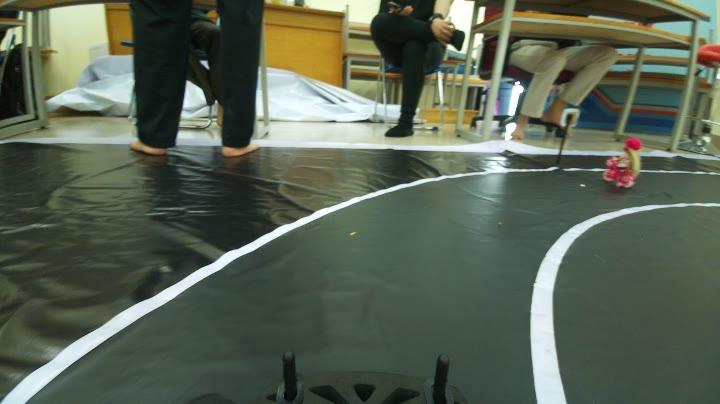pedestrian: (597, 126, 652, 198)
